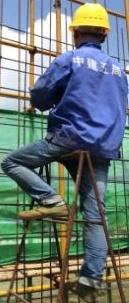boots: (18, 199, 68, 218), (75, 278, 98, 303)
hard-hat: (68, 0, 110, 32)
vest: (29, 38, 126, 145)
